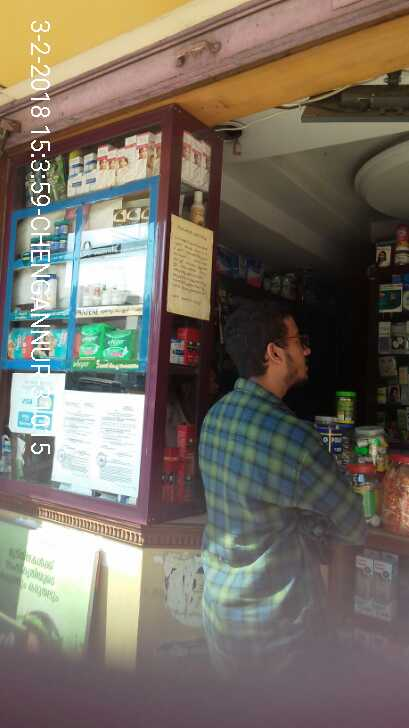vicks: (30, 221, 69, 251)
